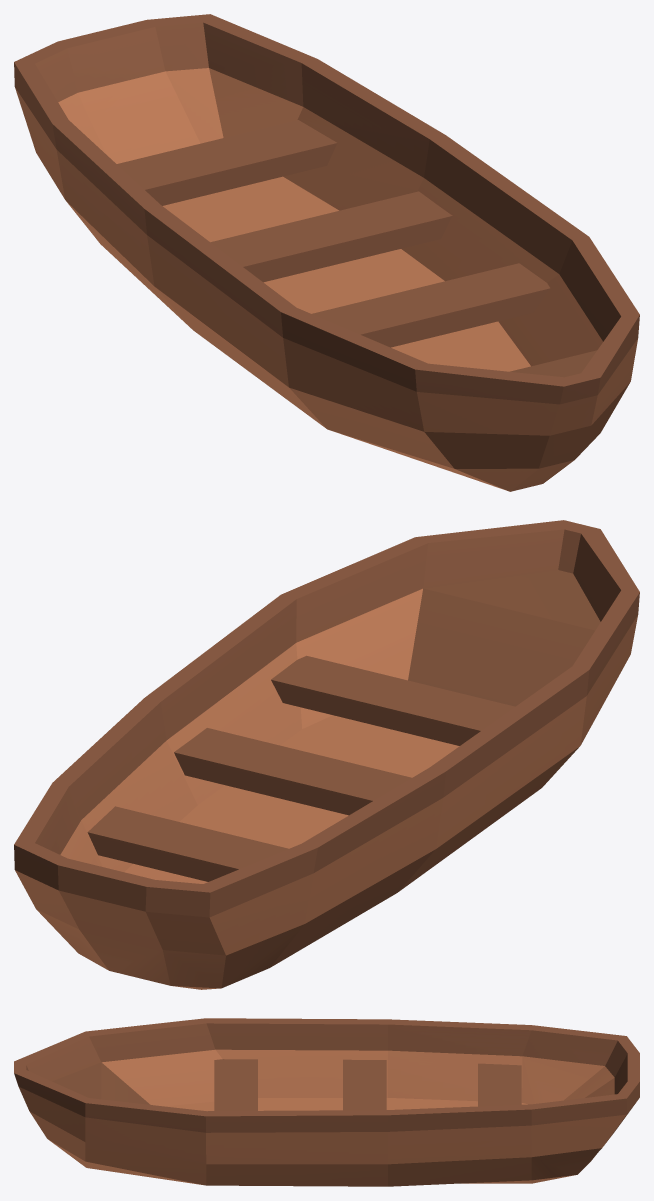
Rendered from boat.glb.
The picture shows the model from 3 angles, top to bottom: view 1: azimuth 30°, elevation 25°; view 2: azimuth 150°, elevation 25°; view 3: azimuth 270°, elevation 25°; orthographic projection. The views are drawn at different scales.
Parts seen in each view (by area): view 1: boat; view 2: boat; view 3: boat.
Boxes of the visible parts, bbox=[...] form: boat: bbox=[14, 14, 639, 491]; boat: bbox=[14, 520, 639, 989]; boat: bbox=[14, 1018, 639, 1186].
Bounding box in the file's own units: 1.93 × 1.02 × 5.21.
1 material, 1 textured.
